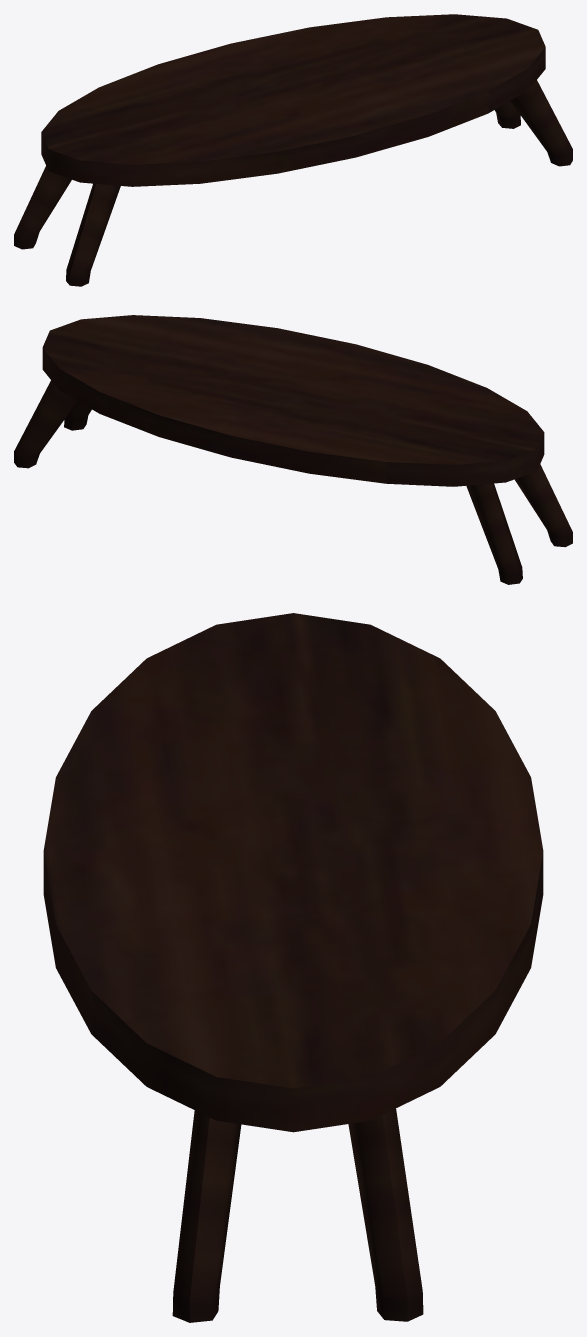
Rendered from CoffeeTable.fbx.
3 renders of one model, top to bottom at view 1: azimuth 30°, elevation 25°; view 2: azimuth 150°, elevation 25°; view 3: azimuth 270°, elevation 25°, orthographic. The views are drawn at different scales.
Parts seen in each view (by area): view 1: Coffee_Table; view 2: Coffee_Table; view 3: Coffee_Table.
Boxes of the visible parts, left/top/right/bottom form: Coffee_Table: left=14, top=14, right=572, bottom=286; Coffee_Table: left=14, top=315, right=572, bottom=584; Coffee_Table: left=43, top=613, right=543, bottom=1322.
Size of the model in its own units: 211 by 45.12 by 90.4.
